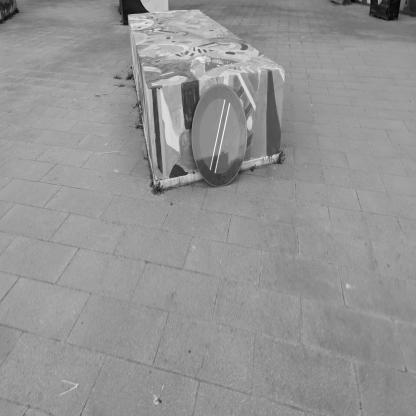No Waiting: (193, 85, 249, 189)
